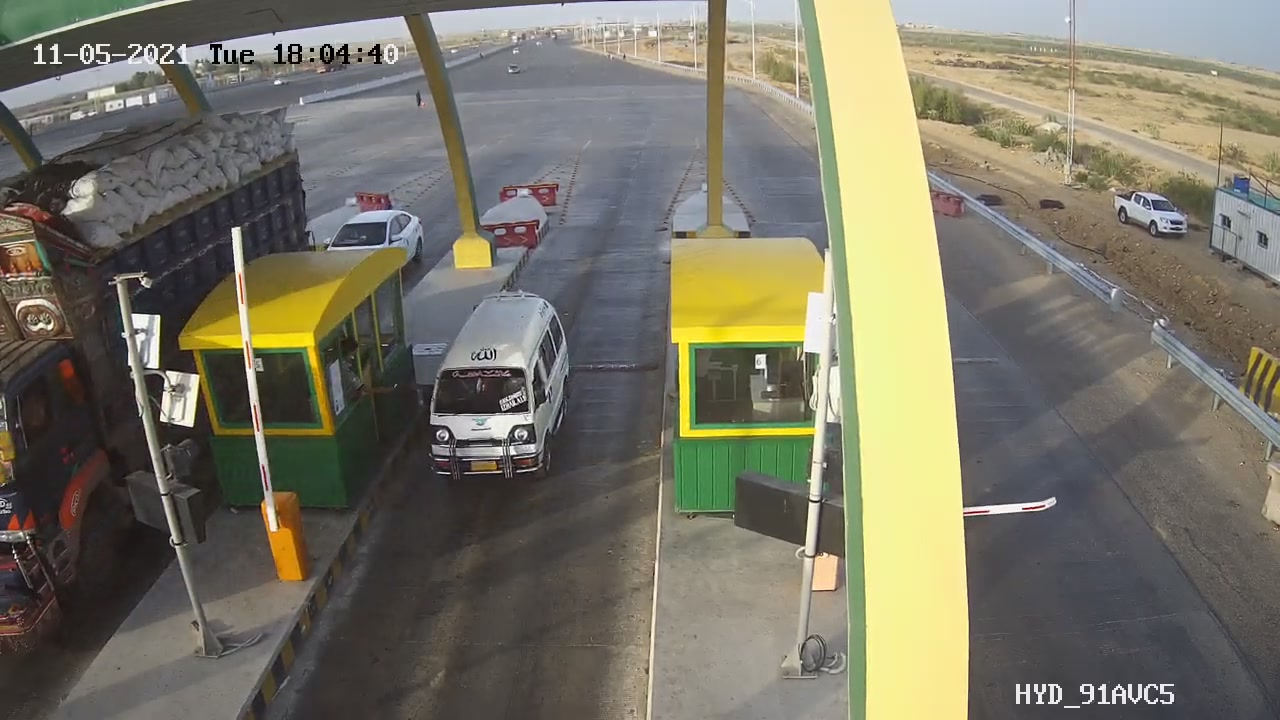F1: (418, 273, 594, 496)
